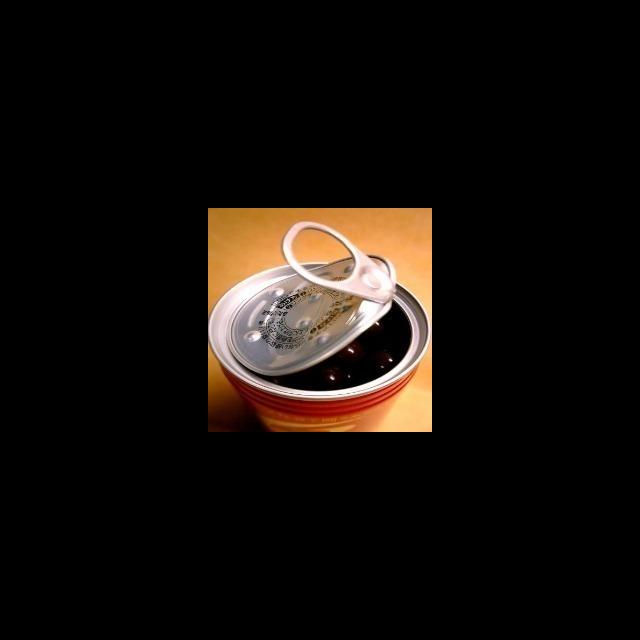metal: (208, 214, 432, 432)
